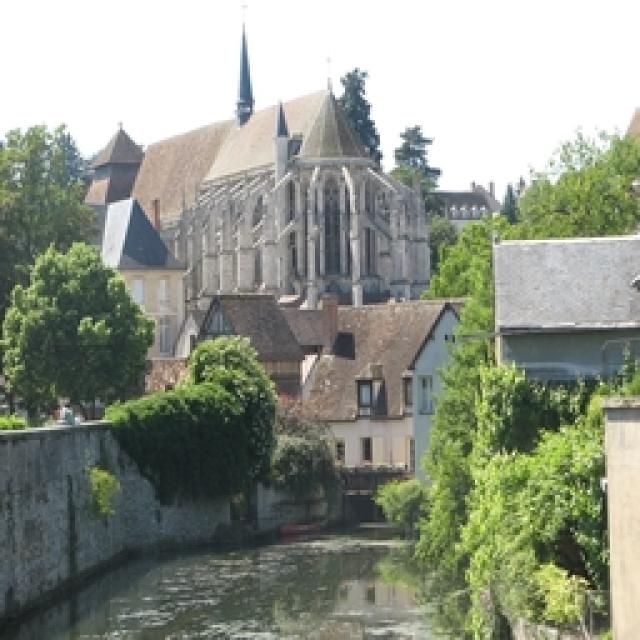Abbey: (101, 82, 463, 436)
